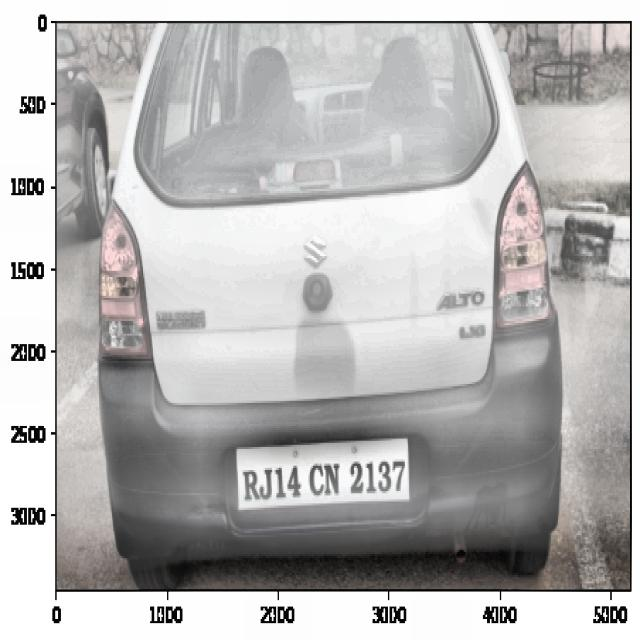license_plate: (236, 441, 411, 507)
